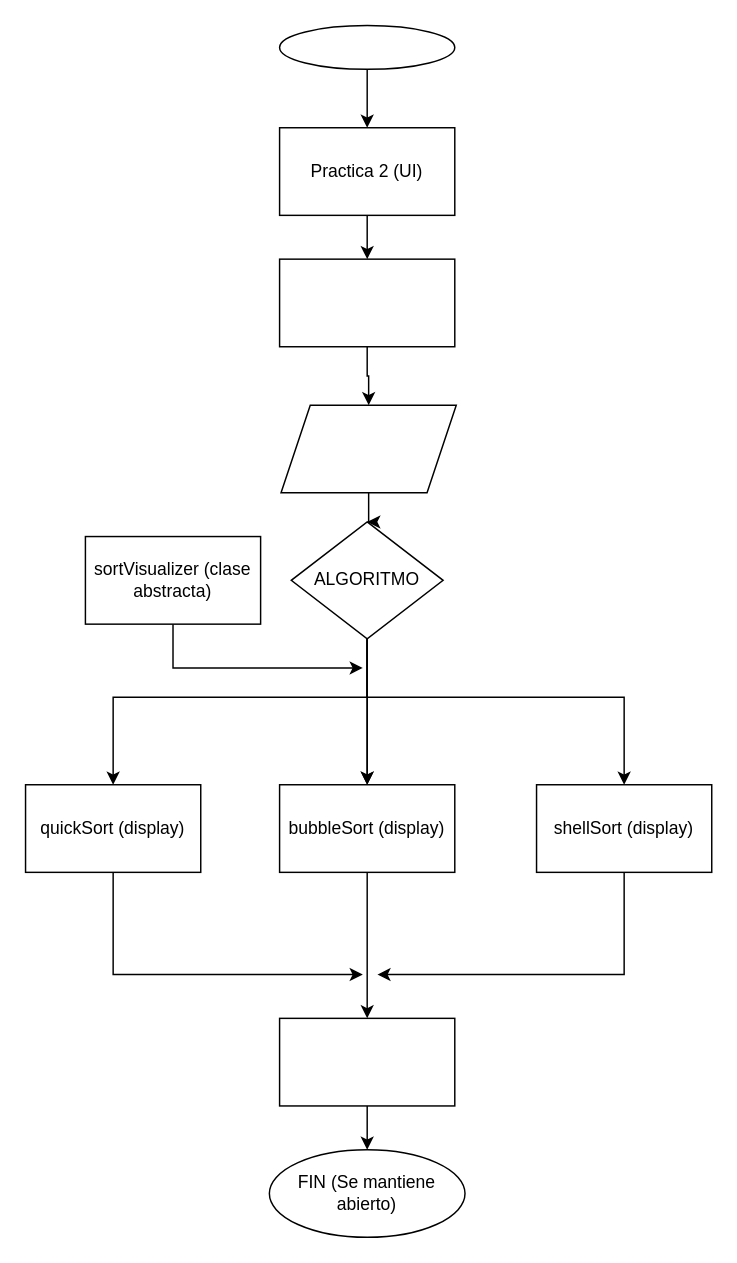
The diagram is 737 pixels wide and 1263 high, and some of its shapes have lost their labels. Here are the shapes that lost their labels. From the top down, the box of each, then its label:
(278, 24, 455, 69): Inicio
(278, 258, 455, 347): getData (componente UI)
(280, 404, 456, 493): Obtiene configuraciones
(278, 1017, 455, 1106): Log
